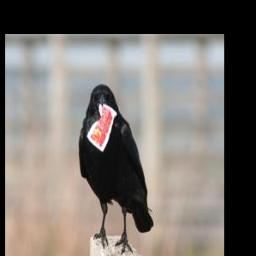Crow: (77, 83, 154, 256)
